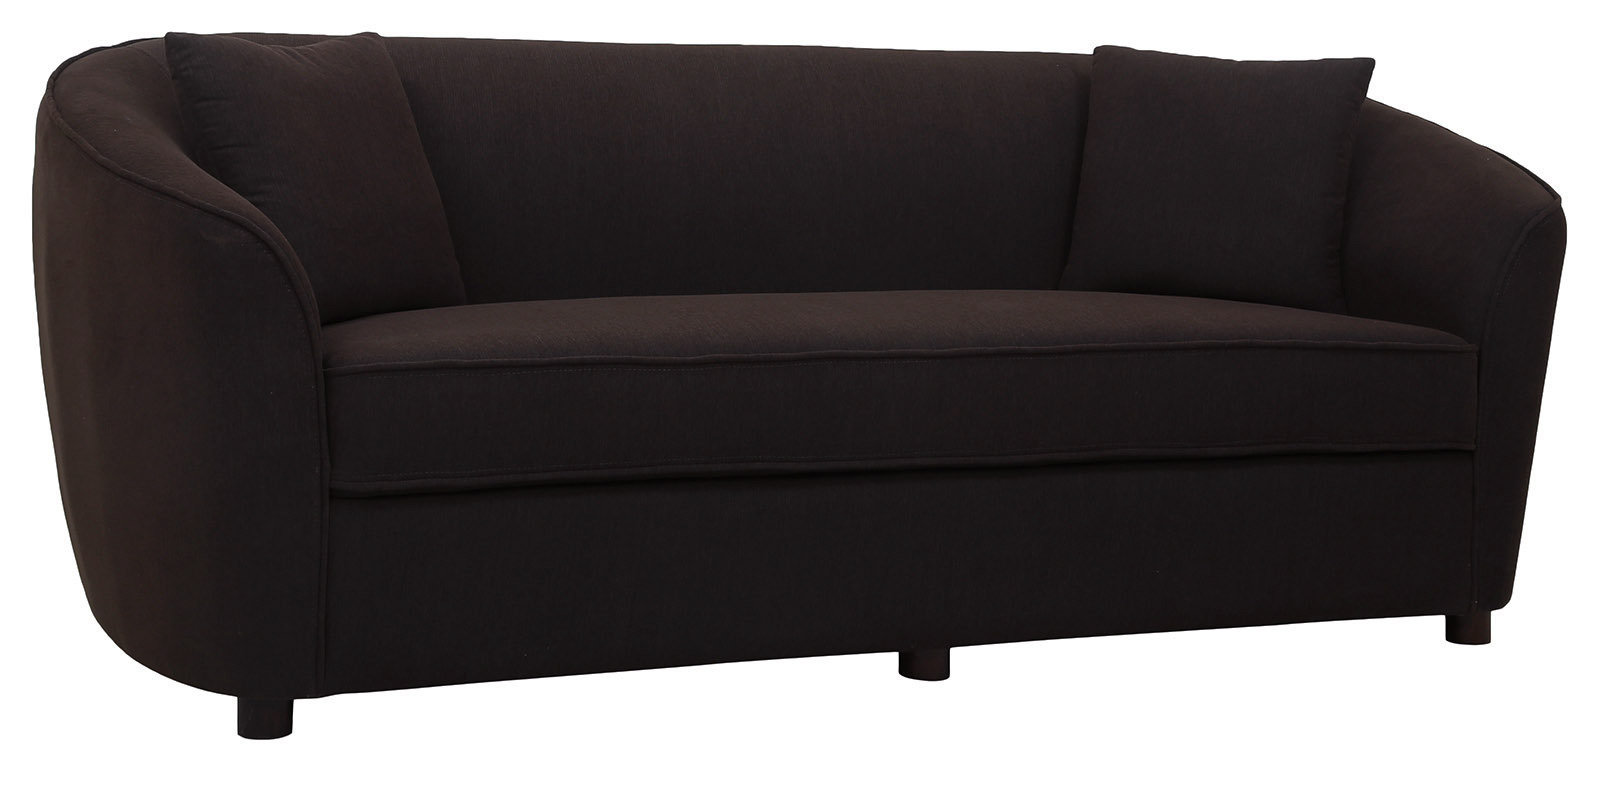Mamore Three Seater Sofa in Chestnut Brown Color by CasaCraft: (34, 28, 1567, 741)
